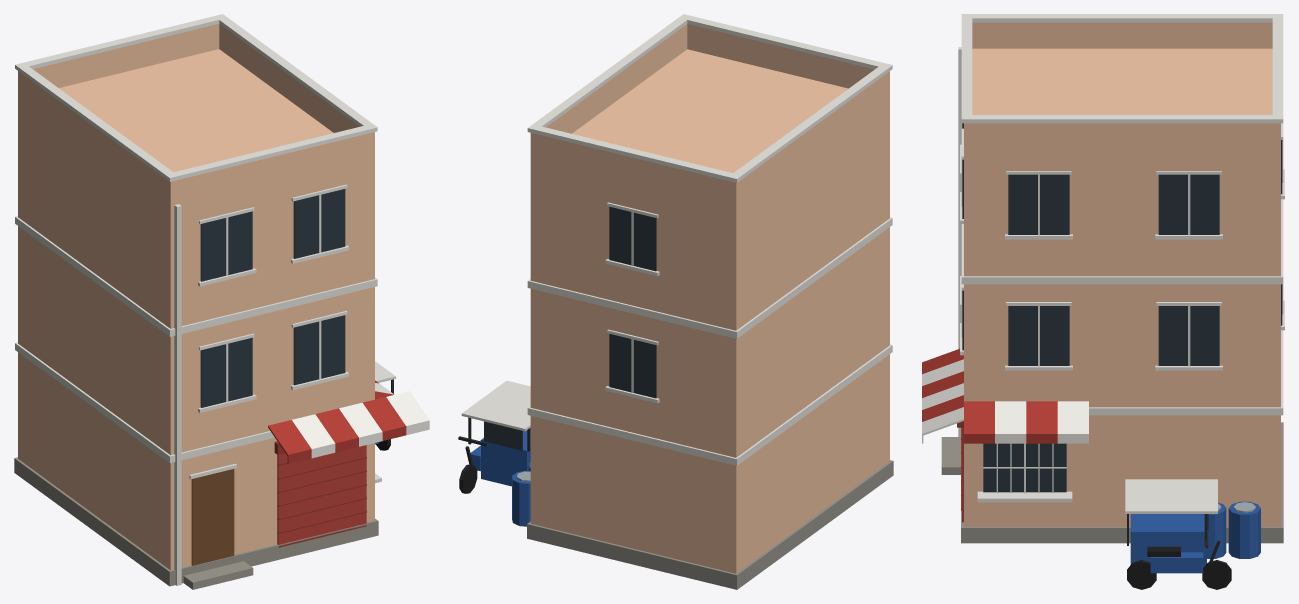
File: BAY_F_Corner_G.glb
3 renders of one model, left to right at view 1: azimuth 30°, elevation 25°; view 2: azimuth 150°, elevation 25°; view 3: azimuth 270°, elevation 25°, orthographic. The views are drawn at different scales.
Parts seen in each view (by area): view 1: BAY_F_Corner_G; view 2: BAY_F_Corner_G; view 3: BAY_F_Corner_G.
Boxes of the visible parts, x1=… form: BAY_F_Corner_G: x1=14, y1=14, x2=429, y2=589; BAY_F_Corner_G: x1=458, y1=14, x2=893, y2=589; BAY_F_Corner_G: x1=922, y1=14, x2=1284, y2=589.
Bounding box in the file's own units: 6.75 × 8.4 × 6.52.
1 material, 1 textured.
